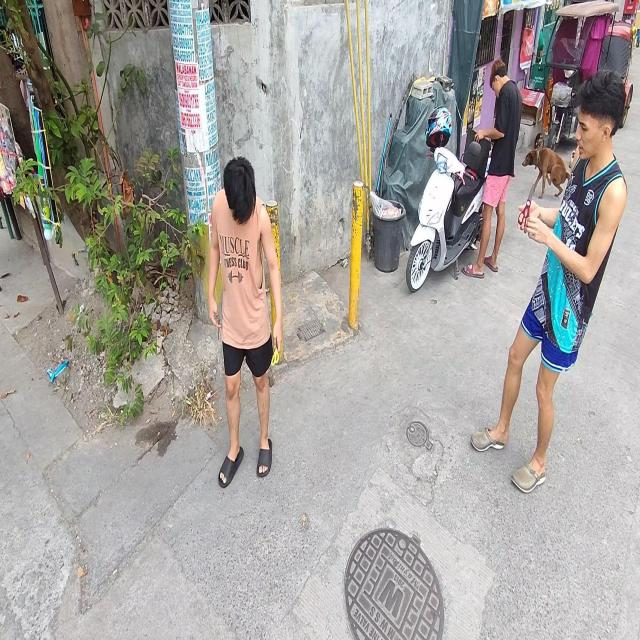scissor: (518, 184, 535, 227), (272, 343, 280, 367)
